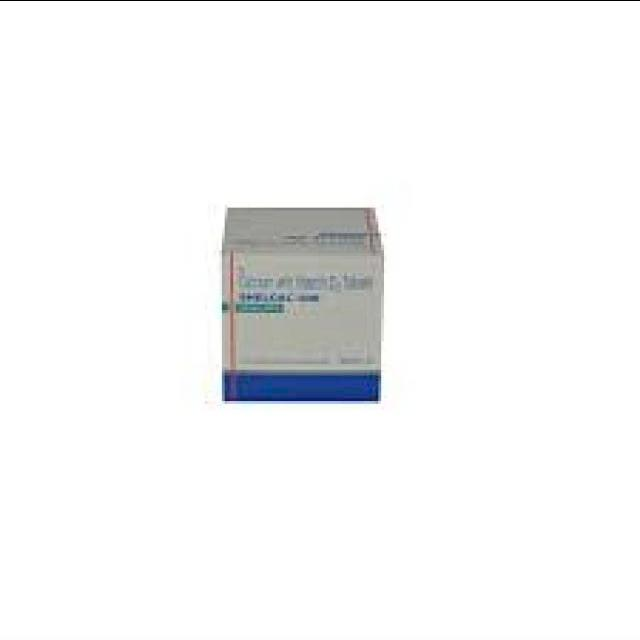authentic: (202, 196, 403, 424)
